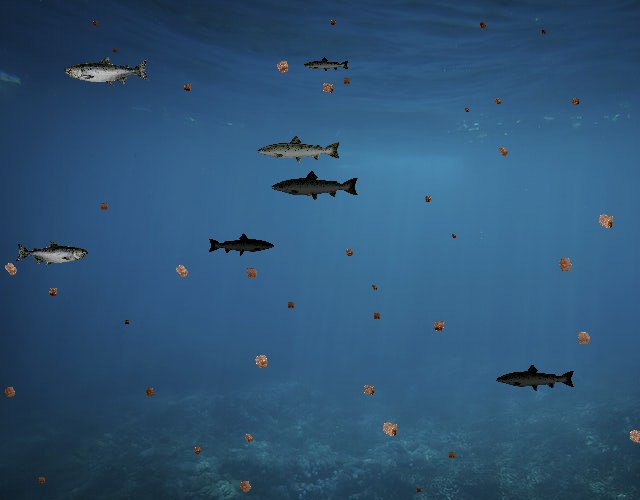Fish: (271, 169, 361, 202), (256, 134, 342, 165), (64, 56, 150, 87), (496, 363, 577, 392), (15, 241, 88, 267), (208, 232, 276, 257), (304, 56, 351, 73)
Pellet: (316, 77, 339, 100), (493, 141, 513, 161), (179, 79, 196, 96), (369, 309, 384, 323), (89, 18, 102, 31), (462, 104, 472, 114)
